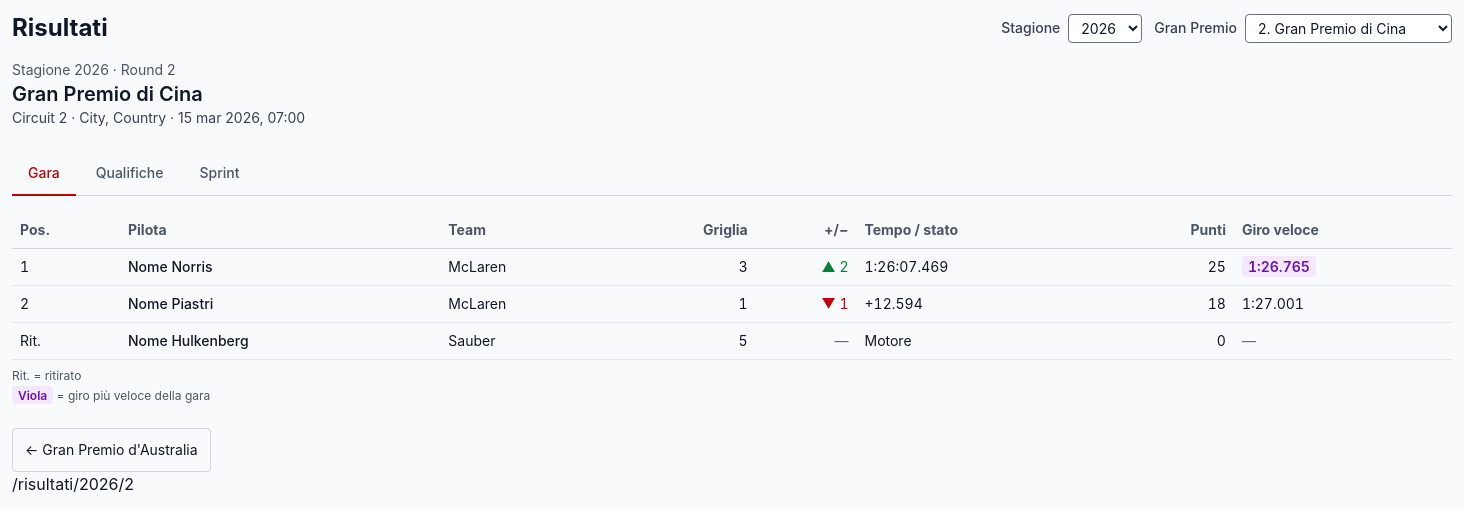
Test case: ResultsPage › picks another Grand Prix or season from the selectors
Expected: the text "Nome Norris" is shown, [120,248,440,286]
Select "1. Gran Premio d'Australia" in the dropdown labelled "Gran Premio" at (1348, 28), box [1245,14,1452,42]
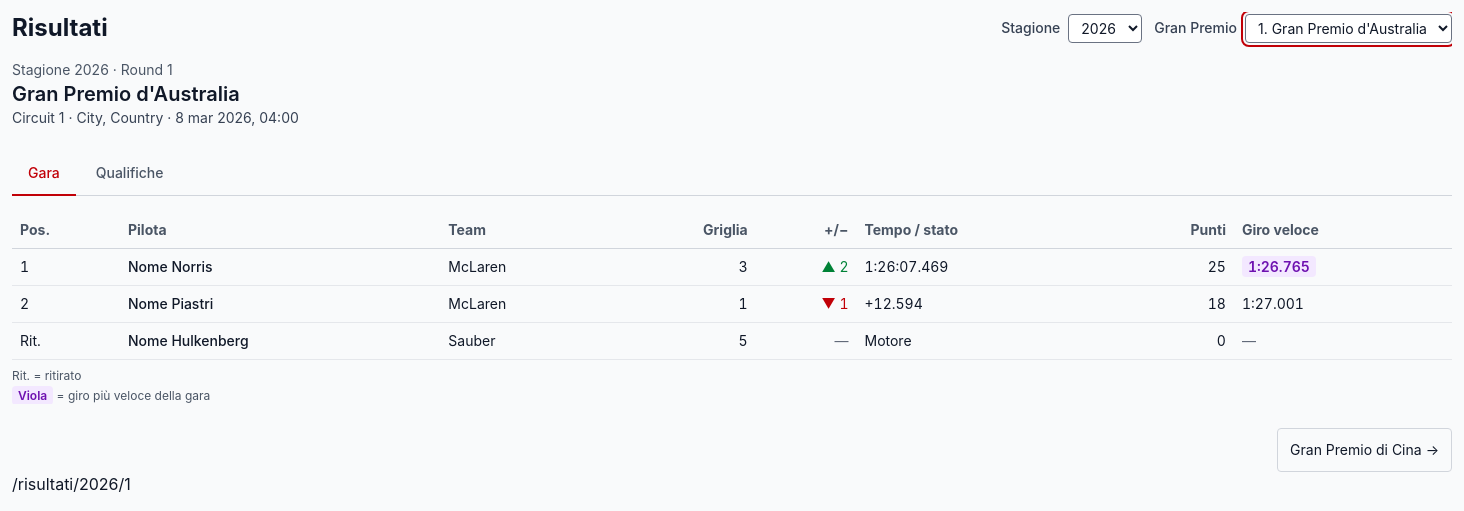
Result: the text with test id "location" reads "/risultati/2026/1" at [12,474,131,494]
Select "1950" in the dropdown labelled "Stagione" at (1105, 28), box [1068,14,1142,42]
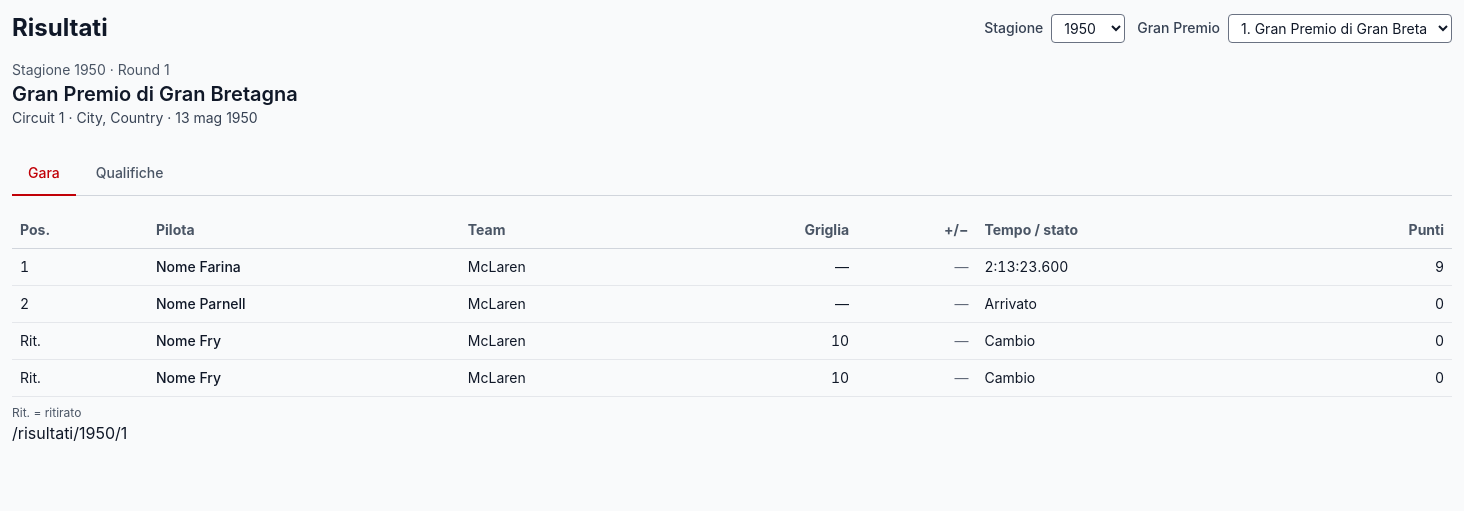
Result: the text with test id "location" reads "/risultati/1950/1" at [12,423,127,443]
